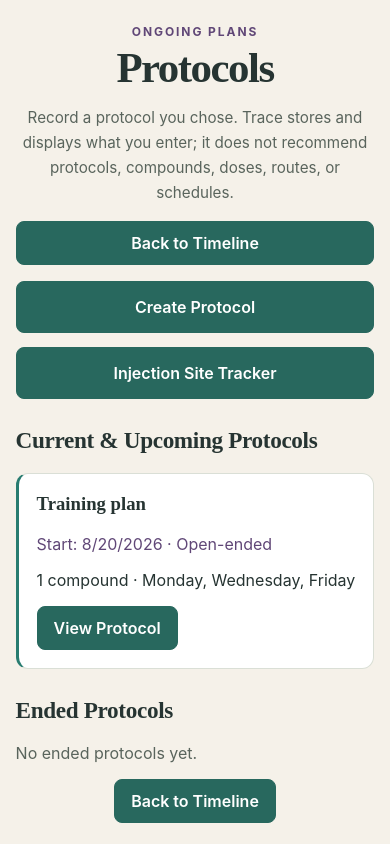
Test: bottom Back to Protocols and Create use the same render-aware restoration
The width and height of the screenshot is (390, 844).
Click the button "Create Protocol" at (195, 307), box [16,281,374,333]
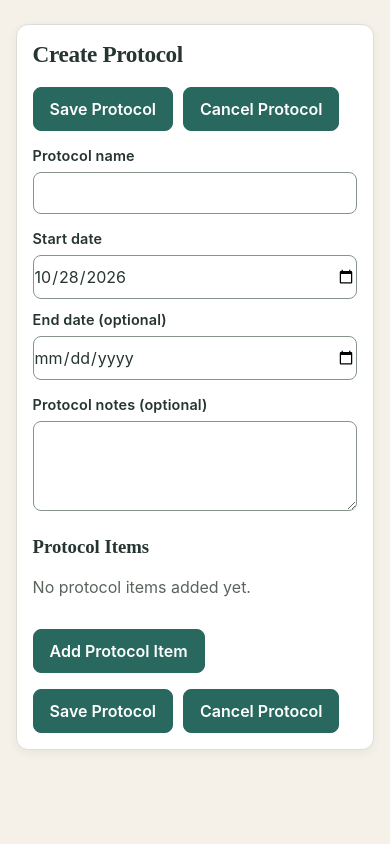
expect the element with test id "protocol-editor-context" shows "Create Protocol": met, box [33,41,183,67]
Click the 1st button "Cancel Protocol" at (261, 109), box [183,87,339,131]
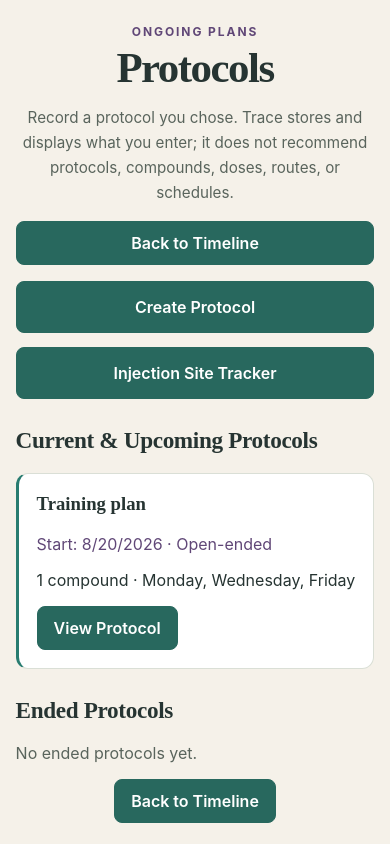
Click the button "View Protocol" at (107, 628), box [37,606,178,650]
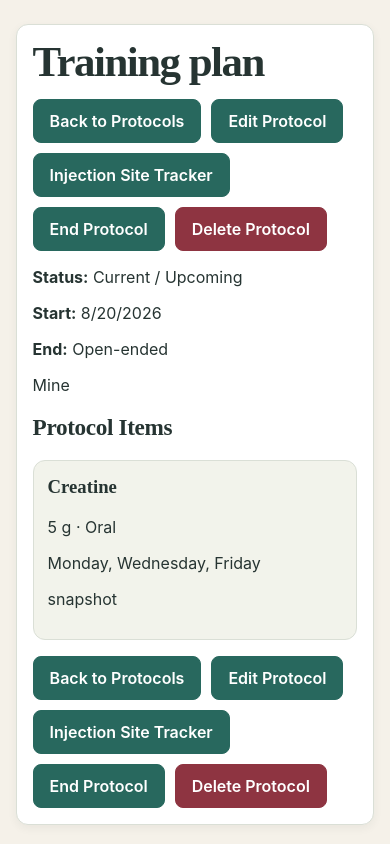
Click the 2nd button "Back to Protocols" at (117, 678), box [33,656,201,700]
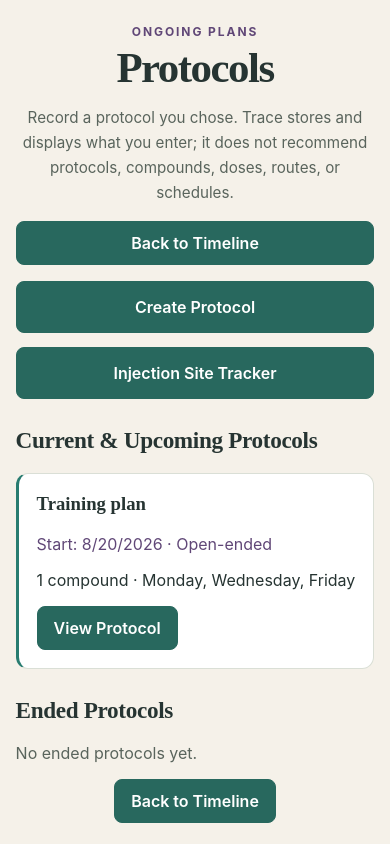
expect the heading "Training plan" is shown: met, box [37,493,146,514]
